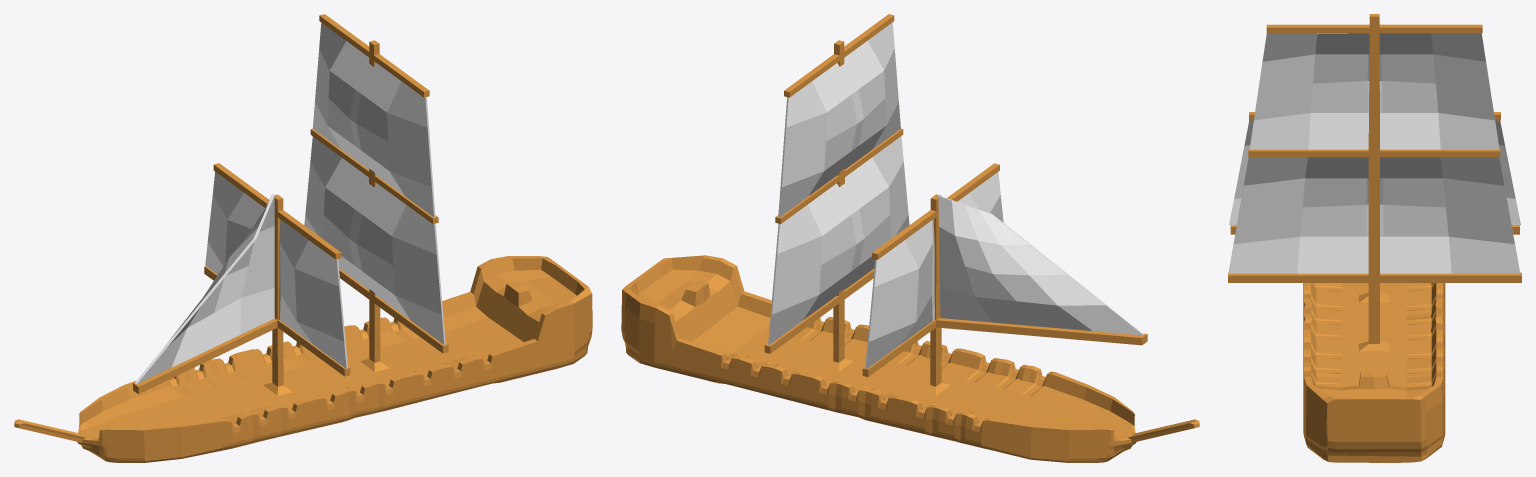
Rendered from brigantine.glb.
3 views of the same model, side by side, from view 1: azimuth 30°, elevation 25°; view 2: azimuth 150°, elevation 25°; view 3: azimuth 270°, elevation 25° (orthographic). The views are drawn at different scales.
Parts seen in each view (by area): view 1: Cube; view 2: Cube; view 3: Cube.
Boxes of the visible parts, x1,y1,x2,y2 form: Cube: [14, 14, 592, 462]; Cube: [621, 14, 1199, 462]; Cube: [1228, 14, 1521, 462].
Size of the model in its own units: 36.65 by 21.92 by 16.29.
